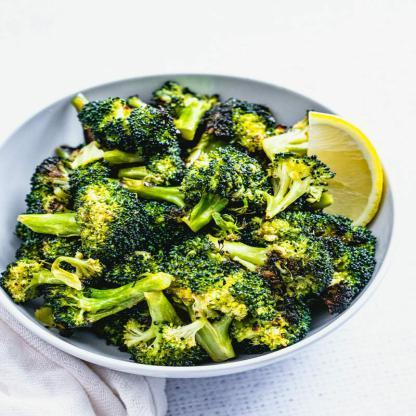broccoli: (0, 77, 386, 367)
